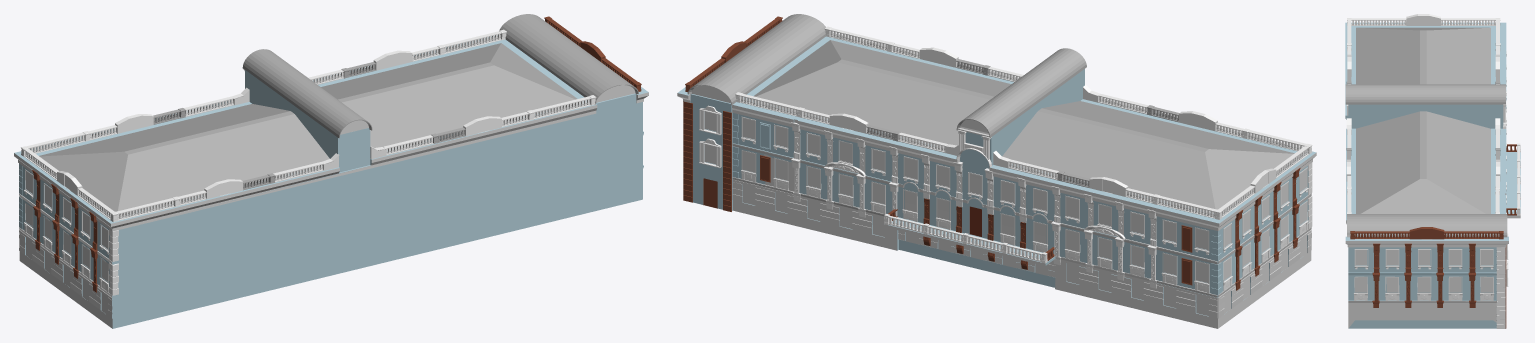
Rendered from rukovishnikov.fbx.
The picture shows the model from 3 angles, left to right: view 1: azimuth 30°, elevation 25°; view 2: azimuth 150°, elevation 25°; view 3: azimuth 270°, elevation 25°; orthographic projection. The views are drawn at different scales.
Visible parts, largest first — view 1: Cube; view 2: Cube; view 3: Cube.
Boxes of the visible parts, x1,y1,x2,y2 form: Cube: (14, 14, 648, 328); Cube: (677, 14, 1316, 328); Cube: (1345, 14, 1520, 328).
Bounding box in the file's own units: 3350 × 898 × 1134.
